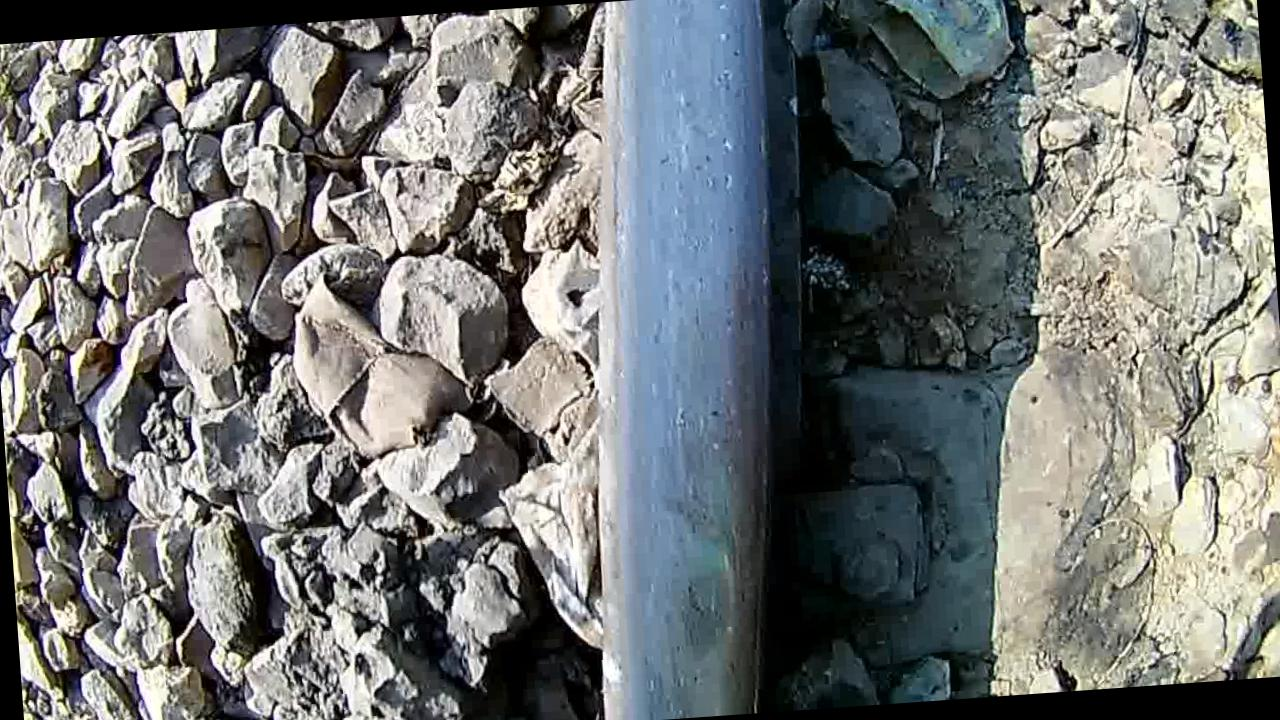bolt_missing: (608, 470, 789, 720)
